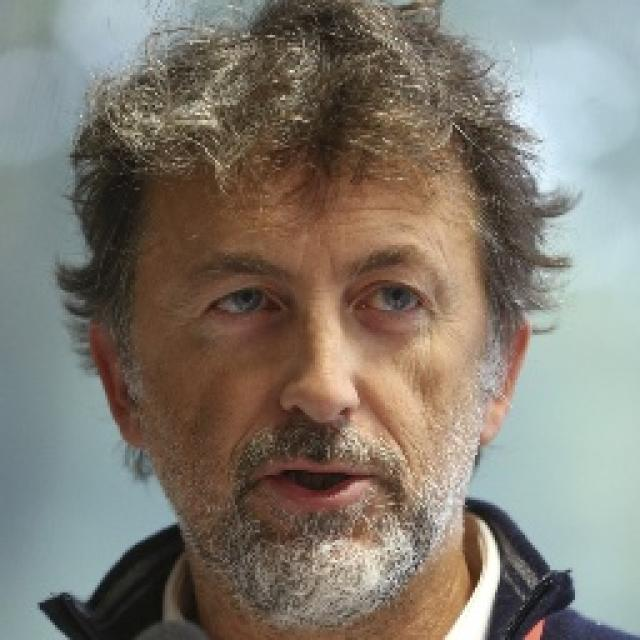earlobe: (85, 316, 148, 453), (478, 313, 533, 442)
